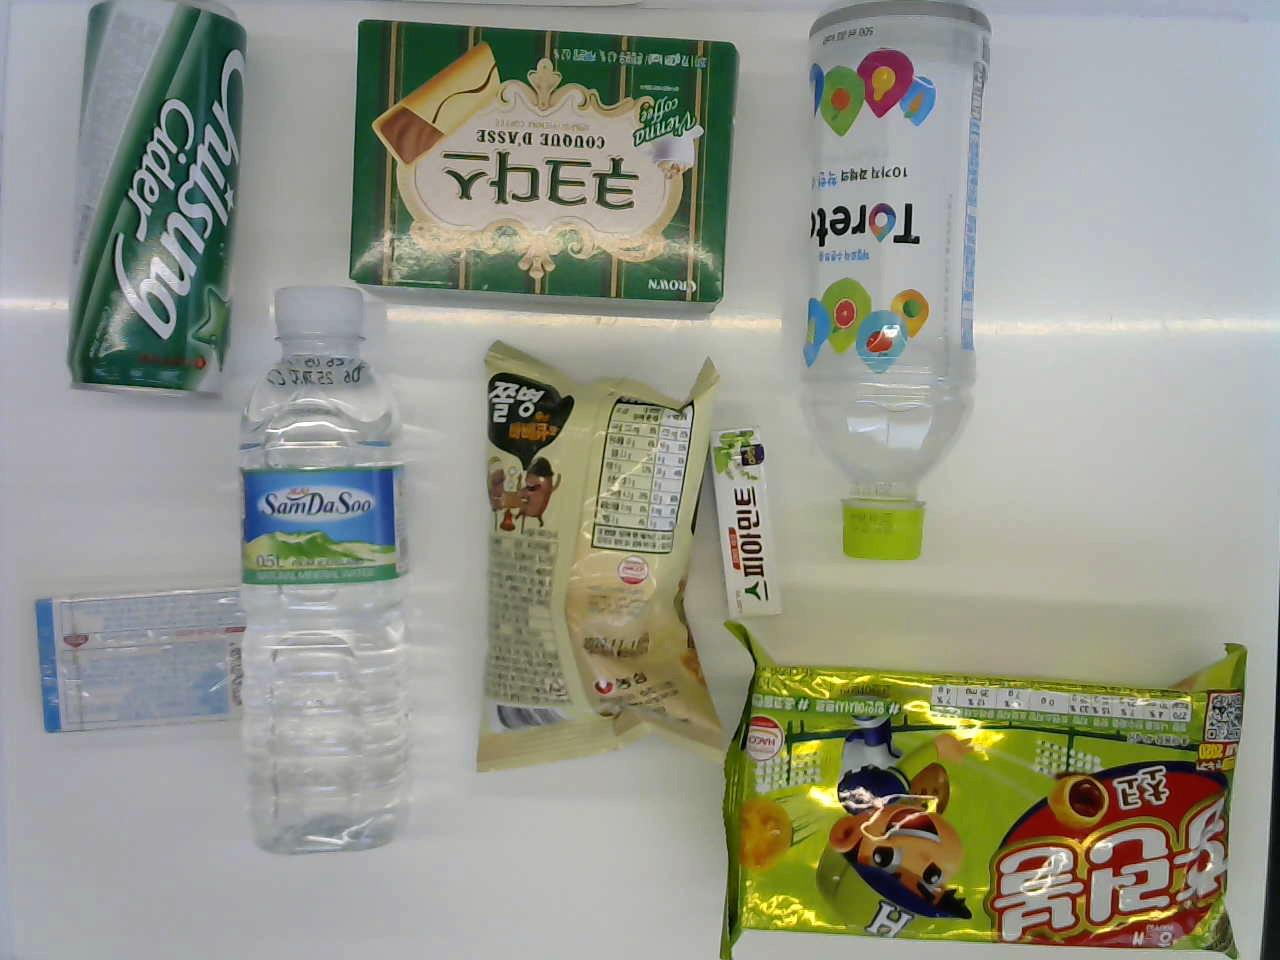ID_gum: (27, 568, 245, 739)
cidar: (66, 3, 243, 402)
couque_coffee: (345, 22, 754, 295)
homerunball: (703, 624, 1263, 956)
jjolbyung_ori: (464, 327, 719, 765)
samdasu: (223, 273, 405, 860)
spearmint: (708, 414, 777, 620)
toreta: (804, 2, 985, 573)
